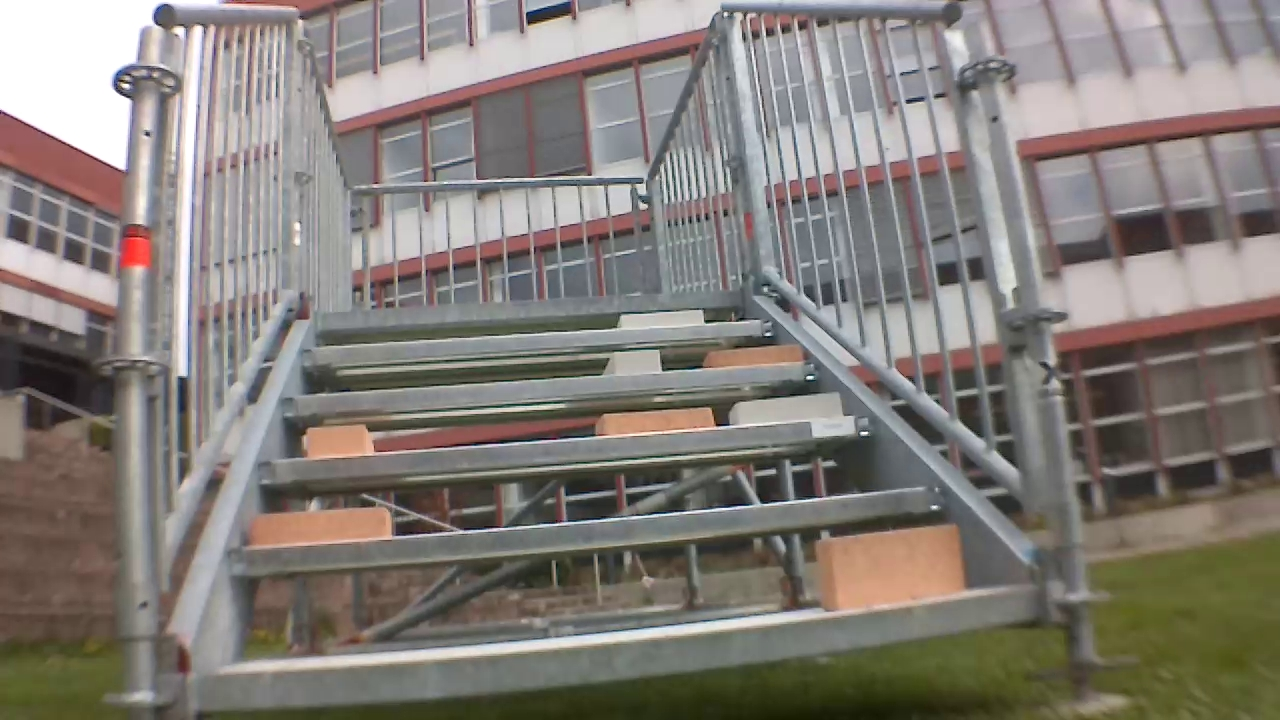brick: (797, 524, 963, 622), (244, 509, 394, 554), (728, 392, 839, 430), (587, 407, 717, 436), (295, 421, 379, 459), (701, 344, 802, 372), (597, 345, 665, 382), (619, 305, 705, 328)
edge: (194, 584, 1050, 720), (227, 486, 942, 575), (249, 411, 885, 486), (285, 362, 830, 423), (296, 313, 782, 365), (302, 287, 758, 328)
stairs: (138, 0, 1080, 712)
steps: (186, 303, 1051, 702)
